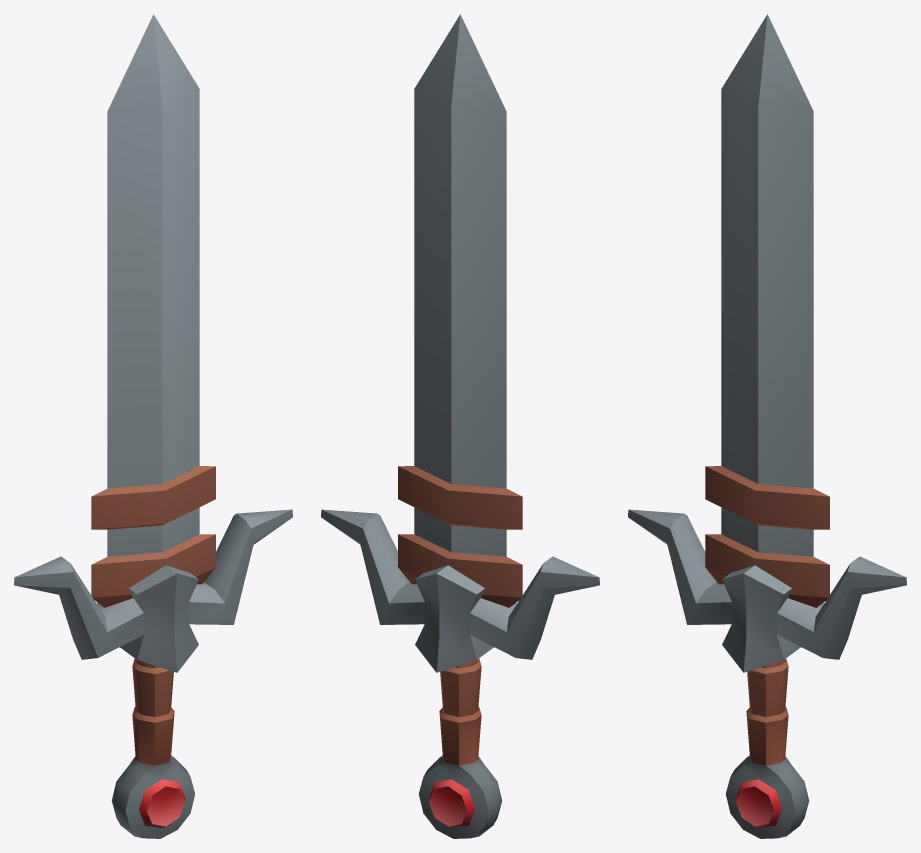
Rendered from adv_sword_2handed.glb.
The picture shows the model from 3 angles, left to right: view 1: azimuth 30°, elevation 25°; view 2: azimuth 150°, elevation 25°; view 3: azimuth 330°, elevation 25°; orthographic projection.
Parts seen in each view (by area): view 1: sword_2handed; view 2: sword_2handed; view 3: sword_2handed.
Part boxes in pixels (bbox=[...]): sword_2handed: bbox=[14, 14, 292, 838]; sword_2handed: bbox=[321, 14, 599, 838]; sword_2handed: bbox=[628, 14, 906, 838].
Bounding box in the file's own units: 0.839 × 2.37 × 0.248.
Materials: 1 (1 with a texture image).
